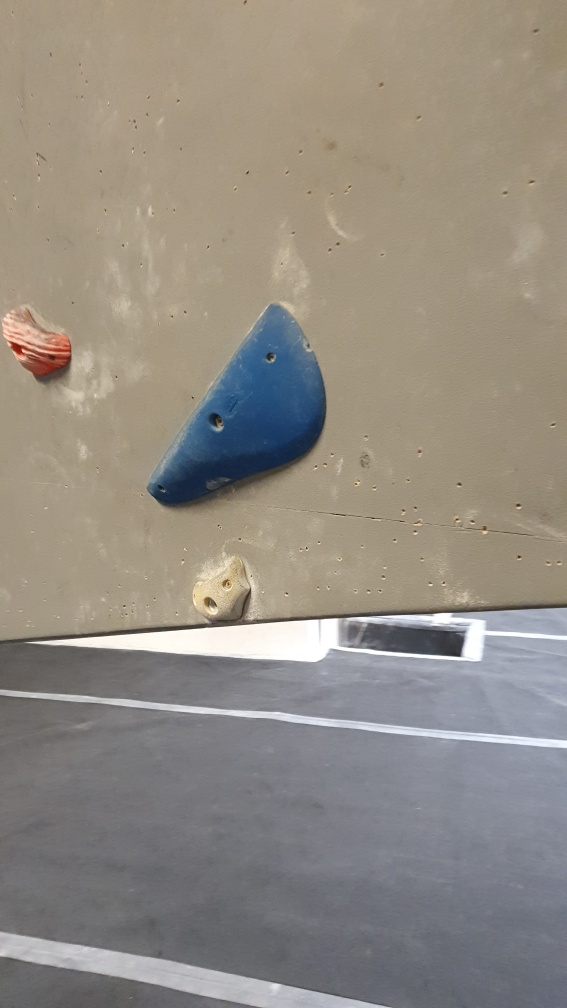Jug: (1, 294, 74, 380)
